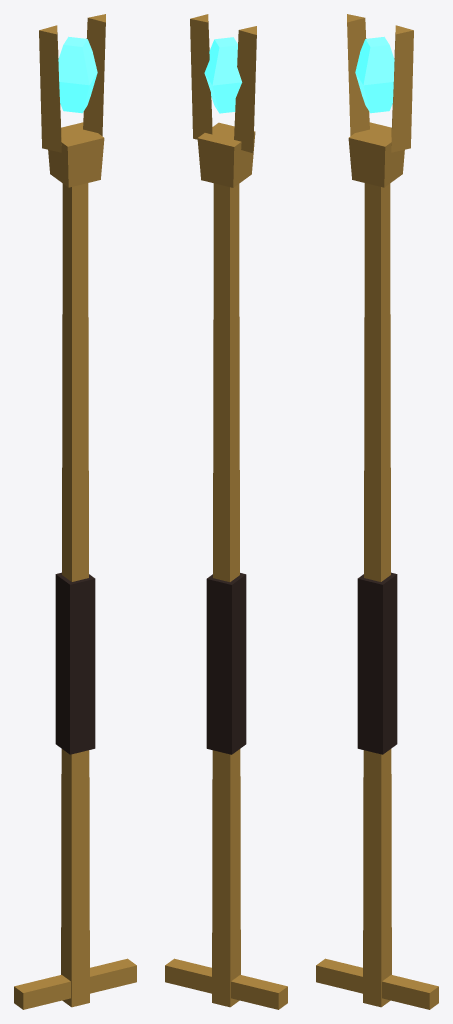
Rendered from SM_Prop_RegulatorKey_LQ.glb.
The picture shows the model from 3 angles, left to right: view 1: azimuth 30°, elevation 25°; view 2: azimuth 150°, elevation 25°; view 3: azimuth 330°, elevation 25°; orthographic projection.
Visible parts, largest first — view 1: SM_Prop_RegulatorKey_LQ; view 2: SM_Prop_RegulatorKey_LQ; view 3: SM_Prop_RegulatorKey_LQ.
Part boxes in pixels (x1=…): SM_Prop_RegulatorKey_LQ: x1=14, y1=14, x2=136, y2=1009; SM_Prop_RegulatorKey_LQ: x1=165, y1=14, x2=287, y2=1009; SM_Prop_RegulatorKey_LQ: x1=316, y1=14, x2=438, y2=1009.
Bounding box in the file's own units: 0.14 × 1.15 × 0.06.
1 material, 1 textured.
